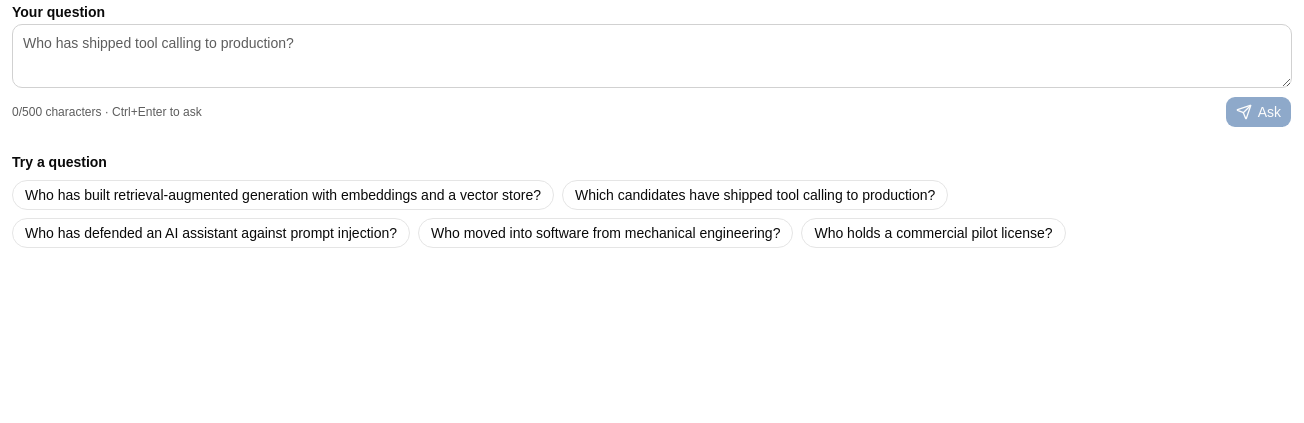
Scenario: AskPanel › asks a suggested question in one click and says when there is not enough evidence
What coordinates should you click on to do the following:
click the button "Who holds a commercial pilot license?"
I would click on:
 (933, 233)
Its box is [801,218,1066,248].
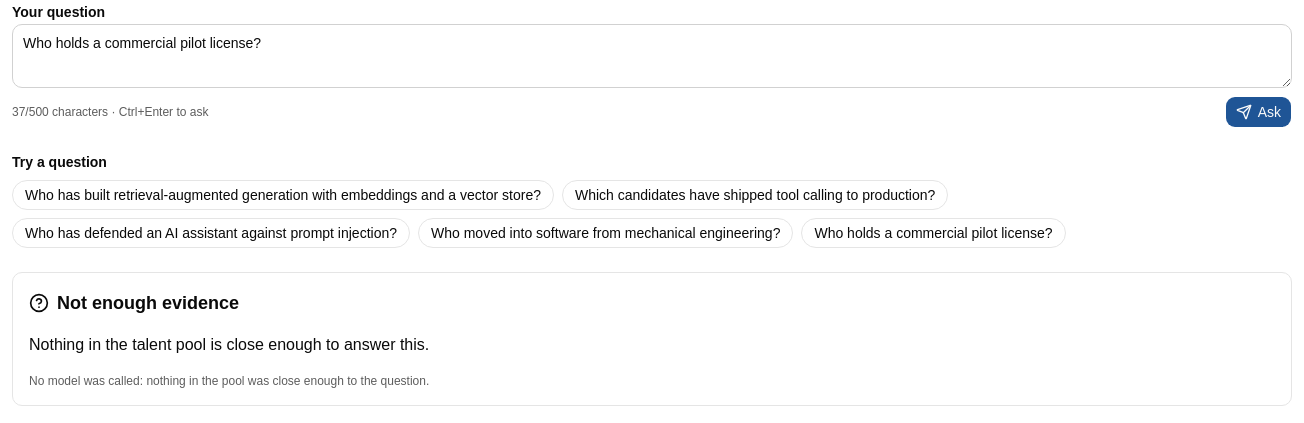
Check: the heading "Not enough evidence" is shown, box [29,293,239,313]
Check: the text "No model was called" is shown, box [29,374,429,388]
Check: the text box labelled "Your question" holds "Who holds a commercial pilot license?", box [12,24,1292,88]
